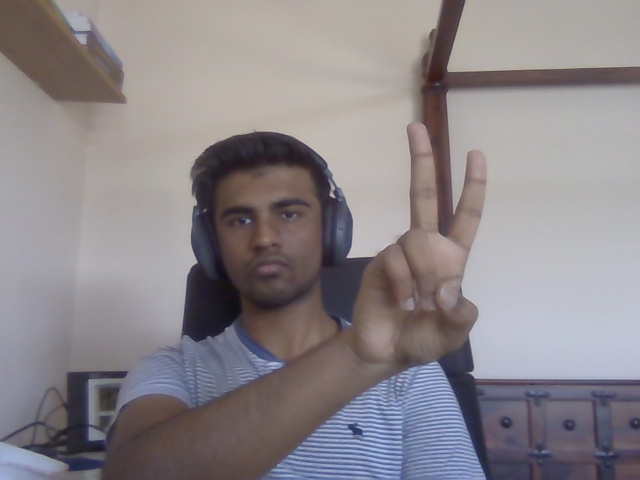Peace: (353, 122, 489, 369)
